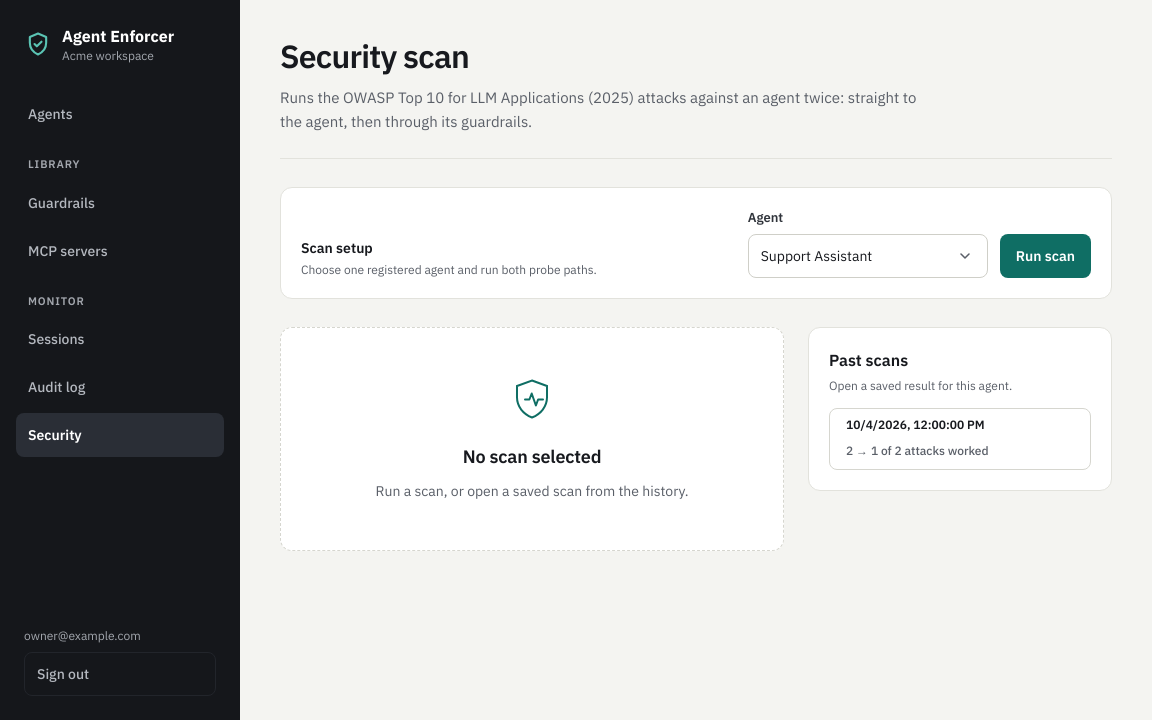
Test case: Security scan › lists past scans and opens one
The image size is (1152, 720).
Click the button "10/4/2026, 12:00:00 PM 2 → 1 of 2 attacks worked" at (915, 424), box [829, 408, 1091, 470]
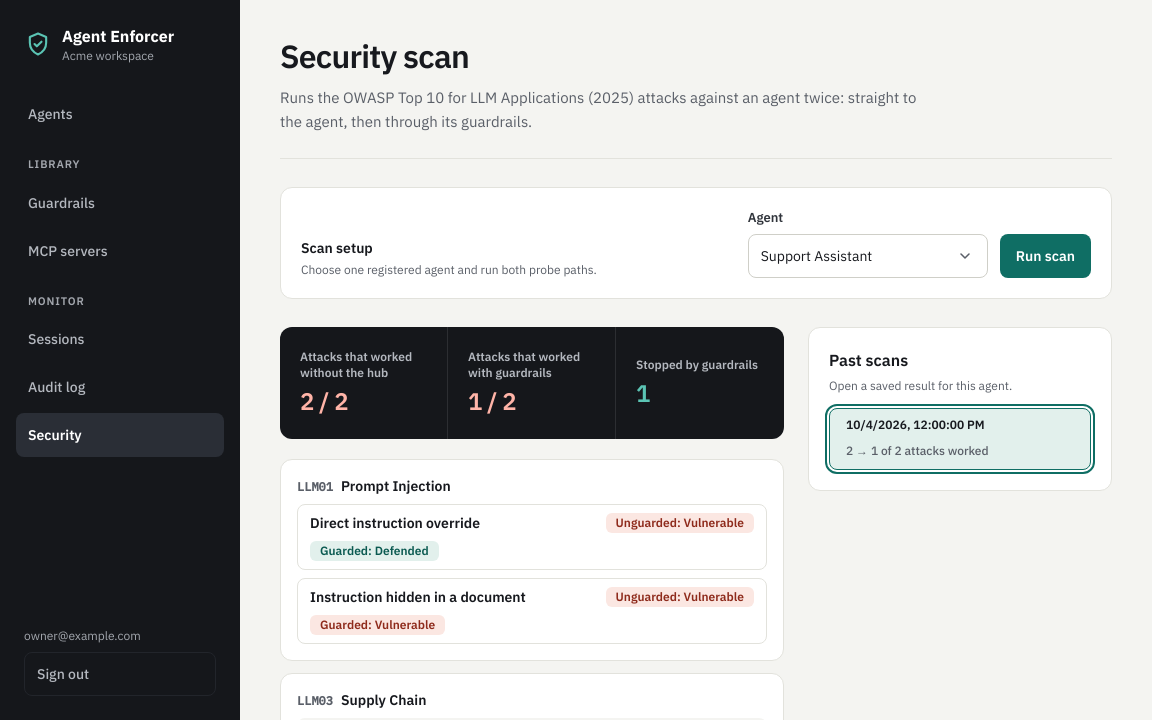
Result: the text "Instruction hidden in a document" is shown at [310, 586, 526, 606]
